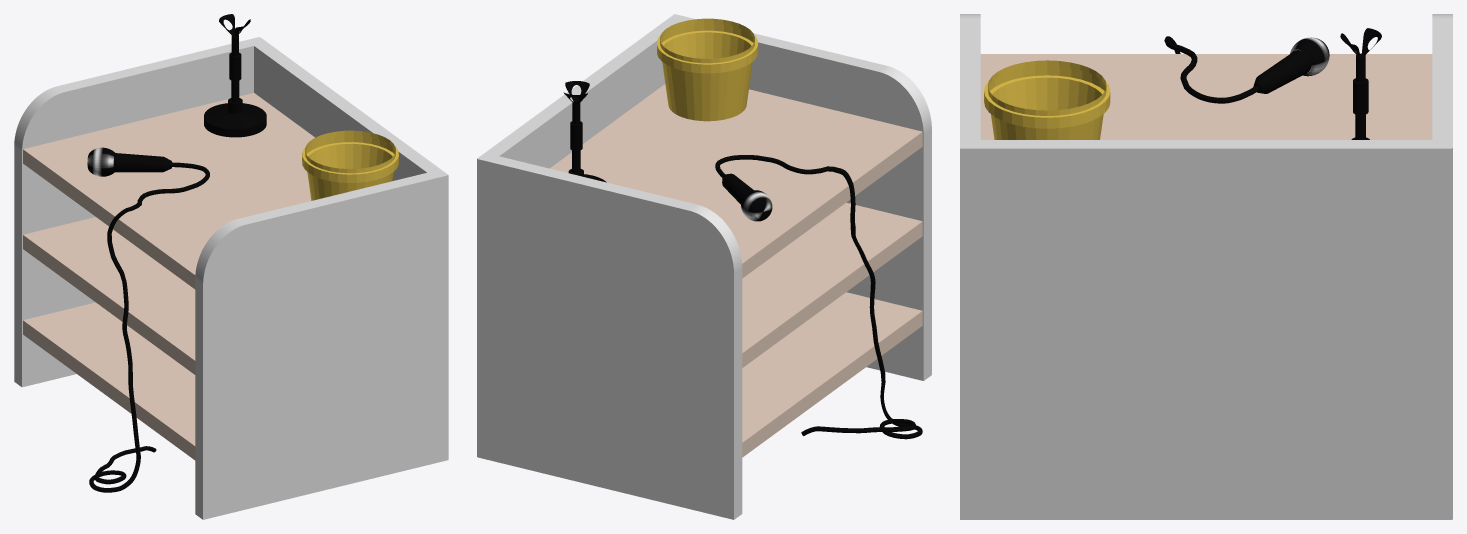
File: mic_line_normal.fbx
3 views of the same model, side by side, from view 1: azimuth 30°, elevation 25°; view 2: azimuth 150°, elevation 25°; view 3: azimuth 270°, elevation 25° (orthographic). The views are drawn at different scales.
Visible parts, largest first — view 1: right, up, left, under, middle, front, basket, line_normal, mic_doc_under, mic_bar, mic_head; view 2: left, up, right, under, middle, front, basket, line_normal, mic_doc_under, mic_head, mic_bar; view 3: front, up, basket, left, right, mic_bar, mic_doc_under, line_normal, mic_head.
Part boxes in pixels (<box>): right: <box>195,172,447,519</box>; up: <box>23,93,314,289</box>; left: <box>14,37,266,387</box>; under: <box>23,302,195,460</box>; middle: <box>23,217,195,374</box>; front: <box>254,37,448,459</box>; basket: <box>302,130,398,200</box>; line_normal: <box>89,163,209,492</box>; mic_doc_under: <box>204,34,266,137</box>; mic_bar: <box>113,153,179,172</box>; mic_head: <box>87,147,114,176</box>; left: <box>477,153,742,519</box>; up: <box>550,84,922,278</box>; right: <box>684,17,931,380</box>; under: <box>742,292,922,457</box>; middle: <box>742,202,922,367</box>; front: <box>477,14,688,456</box>; basket: <box>657,18,758,121</box>; line_normal: <box>715,155,922,439</box>; mic_doc_under: <box>568,103,606,182</box>; mic_head: <box>741,190,772,221</box>; mic_bar: <box>720,172,753,204</box>; front: <box>960,140,1451,519</box>; up: <box>980,54,1432,139</box>; basket: <box>984,60,1110,139</box>; left: <box>1432,14,1452,519</box>; right: <box>960,14,980,139</box>; mic_bar: <box>1250,50,1311,93</box>; mic_doc_under: <box>1351,53,1369,139</box>; line_normal: <box>1164,36,1253,103</box>; mic_head: <box>1290,37,1329,76</box>.
Bounding box in the file's own units: 217 × 243 × 240.
5 materials, 1 textured.
